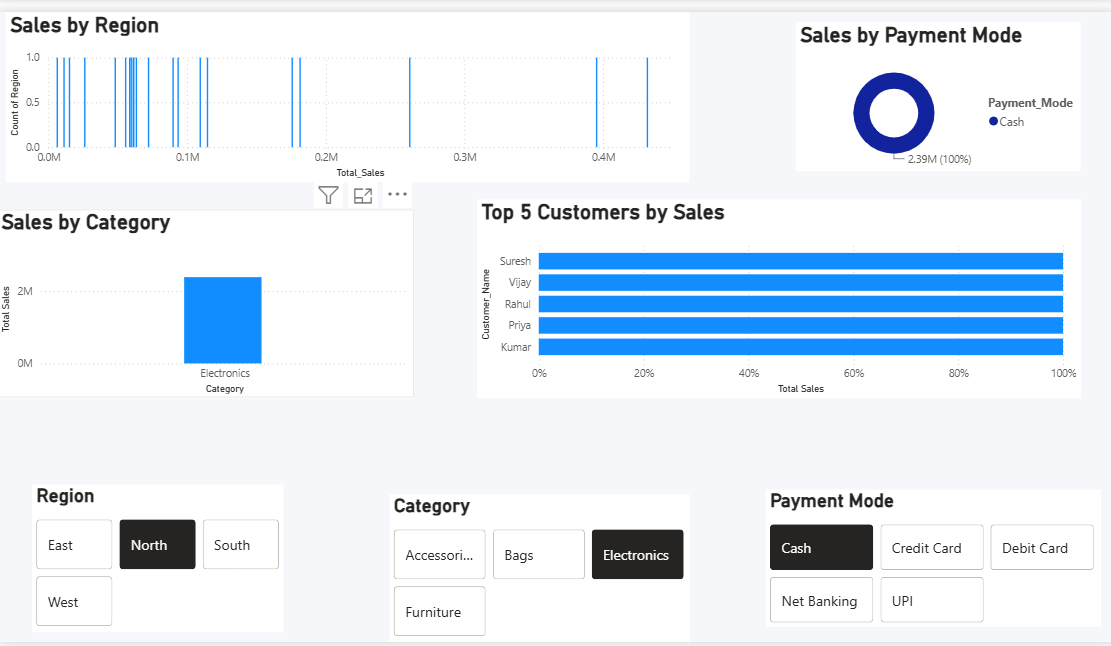

This screenshot's page, from the dashboard's own definition file:
{"tool":"powerbi","page":{"name":"Sales Analysis","canvas":[1280,720],"ordinal":1},"visuals":[{"type":"clusteredColumnChart","title":"Sales by Region","fields":{"Y":["CountNonNull(Sheet1.Region)"],"Category":["Sheet1.Total_Sales"]},"box":[10,0,781.4,194.3],"z":0},{"type":"clusteredColumnChart","title":"Sales by Category","fields":{"Category":["Sheet1.Category"],"Y":["Sheet1.Total Sales"]},"box":[0,225.7,475.7,215.7],"z":1000},{"type":"donutChart","title":"Sales by Payment Mode","fields":{"Category":["Sheet1.Payment_Mode"],"Y":["Sheet1.Total Sales"]},"box":[912.9,11.4,325.7,170],"z":2000},{"type":"hundredPercentStackedBarChart","title":"Top 5 Customers by Sales","fields":{"Category":["Sheet1.Customer_Name"],"Y":["Sheet1.Total Sales"]},"box":[548.6,214.3,690,227.1],"z":3000},{"type":"advancedSlicerVisual","title":"Region","fields":{"Values":["Sheet1.Region"]},"box":[40,540,287.1,168.6],"z":4000},{"type":"advancedSlicerVisual","title":"Category","fields":{"Values":["Sheet1.Category"]},"box":[448.6,551.4,342.9,168.6],"z":5000},{"type":"advancedSlicerVisual","title":"Payment Mode","fields":{"Values":["Sheet1.Payment_Mode"]},"box":[878.6,545.7,382.9,157.1],"z":6000}]}

Visuals, with their boxes on the page's 1280x720 design canvas (x1, y1, x2, y2). These are canvas units, not pixel positions in the 1111x646 screenshot, which may show the page scaled, cropped or inside an application window:
"Sales by Region" clusteredColumnChart: x1=10, y1=0, x2=791, y2=194
"Sales by Category" clusteredColumnChart: x1=0, y1=226, x2=476, y2=441
"Sales by Payment Mode" donutChart: x1=913, y1=11, x2=1239, y2=181
"Top 5 Customers by Sales" hundredPercentStackedBarChart: x1=549, y1=214, x2=1239, y2=441
"Region" advancedSlicerVisual: x1=40, y1=540, x2=327, y2=709
"Category" advancedSlicerVisual: x1=449, y1=551, x2=792, y2=720
"Payment Mode" advancedSlicerVisual: x1=879, y1=546, x2=1262, y2=703
